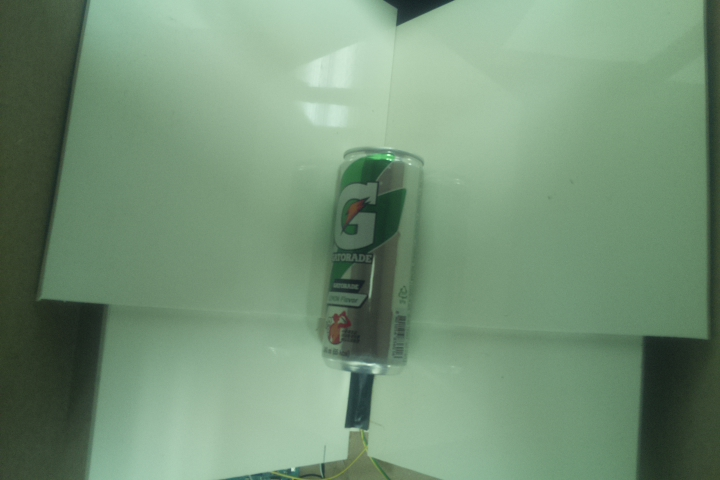can: (318, 144, 425, 382)
